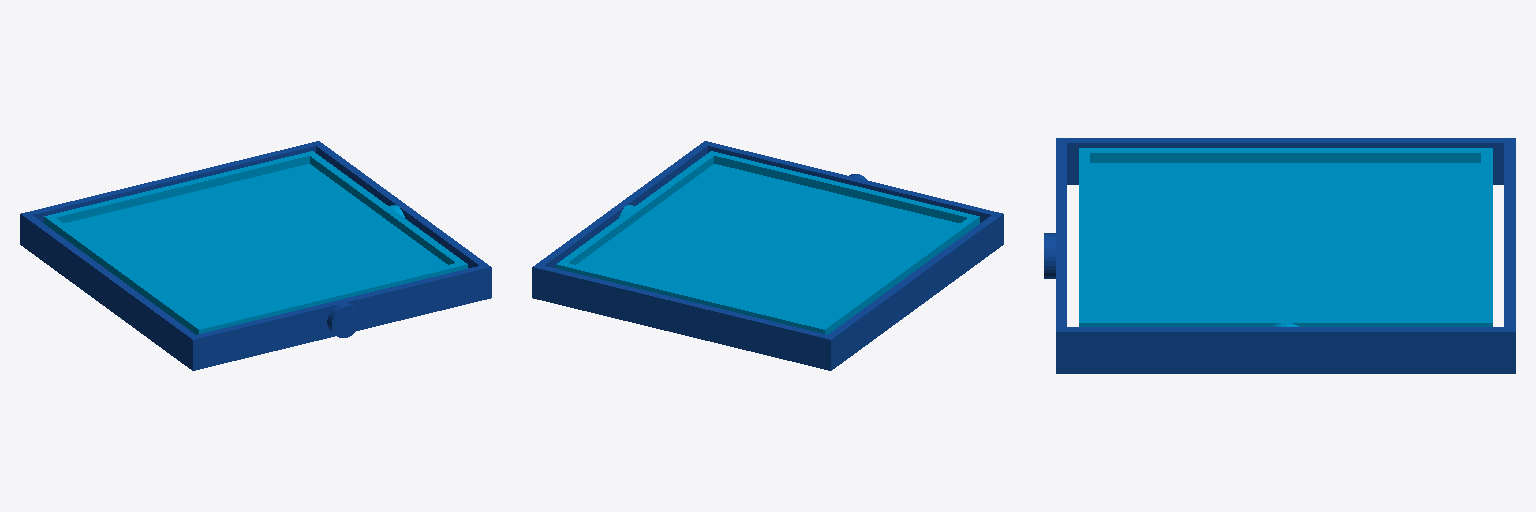
The robot description file, URDF, robot "plate":
<?xml version="1.0" ?>
<robot name="plate">

  <material name="industrial-blue">
    <color rgba="0.11372549019607843 0.34509803921568627 0.6549019607843137 1" />
  </material>

  <material name="arches-blue">
    <color rgba="0.0 0.6235294117647059 0.8313725490196079 1" />
  </material>

  <material name = "heritage-orange">
    <color rgba = "0.96078431 0.50980392 0.11764706 1" />
  </material>

  <link name="world"/>

  <link name="outer" concave="yes">
     <visual>
       <origin rpy="0 0 0" xyz="0 0 0"/>
       <geometry>
         <mesh filename="outer.stl" scale="1 1 1"/>
       </geometry>
       <material name = "industrial-blue"/>
     </visual>
     <collision concave="yes">
       <origin rpy="0 0 0" xyz="0 0 0"/>
       <geometry>
         <mesh filename="outer.stl" scale="1 1 1"/>
       </geometry>
     </collision>
     <inertial>
       <origin rpy="0 0 0" xyz="0 0 0"/>
       <mass value="1"/>
       <inertia ixx="0.01" ixy="0" ixz="0" iyy="0.01" iyz="0" izz="0.01"/>
     </inertial>
   </link>

  <link name="inner" concave="yes">
    <visual>
      <origin rpy="0 0 0" xyz="0 0 0"/>
      <geometry>
        <mesh filename="inner.stl" scale="1 1 1"/>
      </geometry>
      <material name = "arches-blue"/>
    </visual>
    <collision concave="yes">
      <origin rpy="0 0 0" xyz="0 0 0"/>
      <geometry>
        <mesh filename="inner.stl" scale="1 1 1"/>
      </geometry>
    </collision>
    <inertial>
      <origin rpy="0 0 0" xyz="0 0 0"/>
      <mass value="1"/>
      <inertia ixx="0.01" ixy="0" ixz="0" iyy="0.01" iyz="0" izz="0.01"/>
    </inertial>
  </link>

  <joint name="world_to_outer" type="continuous">
		<parent link = "world" />
		<child link = "outer" />
		<origin xyz = "0 0 0" />
		<axis xyz = "0 1 0" />
		<limit effort="1000" velocity="1000"/>
	</joint>

  <joint name="outer_to_inner" type="continuous">
		<parent link = "outer" />
		<child link = "inner" />
		<origin xyz = "0 0 0" />
		<axis xyz = "1 0 0" />
		<limit effort="1000" velocity="1000"/>
	</joint>

</robot>

--- What the picture shows (computed from the rendered views, not written in the file) ---
3 views of the same robot in one strip: view 1: azimuth 30°, elevation 25°; view 2: azimuth 150°, elevation 25°; view 3: azimuth 270°, elevation 25° (orthographic).
Model plate with 3 links and 2 joints (2 continuous), rooted at world, posed every joint at zero.
Visible links, largest first — view 1: inner, outer; view 2: inner, outer; view 3: inner, outer.
Boxes of the visible links, x1,y1,x2,y2 form: inner: (44, 151, 467, 334); outer: (20, 141, 491, 370); inner: (556, 151, 979, 334); outer: (532, 141, 1003, 370); inner: (1079, 148, 1492, 326); outer: (1044, 138, 1515, 373).
Bounding box of the posed robot: 1 × 1.02 × 0.1 m (x, y, z).
2 mesh visuals loaded from 2 distinct referenced files (2 binary STL).